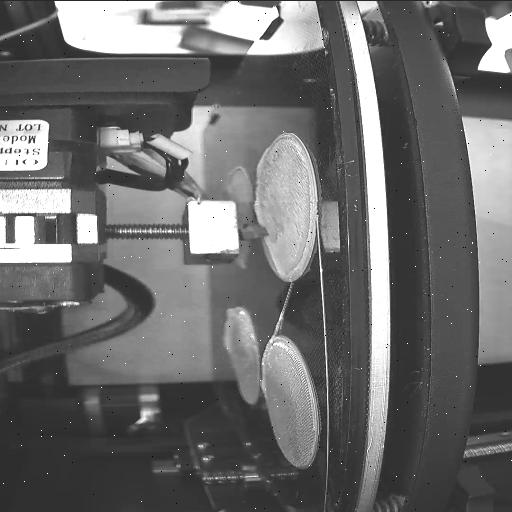over_extrusion: (216, 307, 242, 353), (262, 235, 286, 272), (254, 146, 274, 176), (226, 165, 252, 177), (250, 202, 264, 222), (259, 374, 269, 398)
